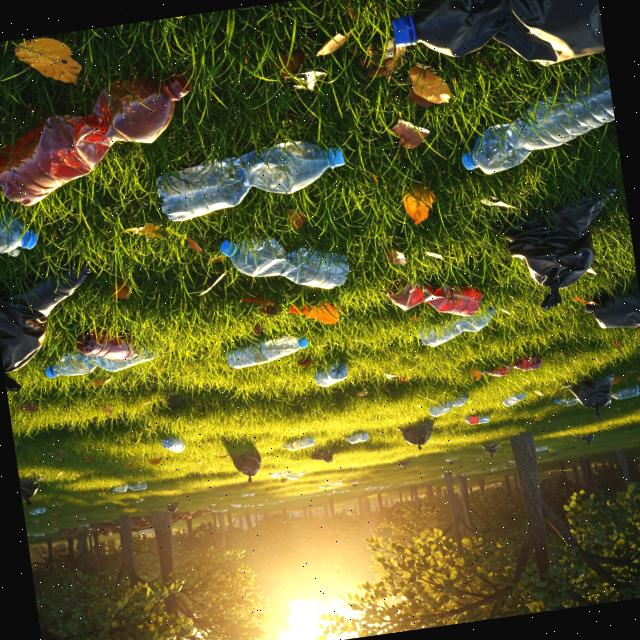plastic: (0, 68, 207, 213), (448, 66, 620, 182), (148, 134, 352, 225), (213, 217, 354, 309), (381, 264, 492, 332), (418, 302, 502, 351), (222, 330, 310, 372), (0, 194, 42, 263), (76, 318, 135, 364), (481, 349, 544, 382), (44, 348, 98, 382), (96, 348, 156, 377), (428, 384, 472, 418), (312, 356, 350, 392), (155, 428, 189, 460), (608, 381, 640, 405), (287, 434, 314, 451)
